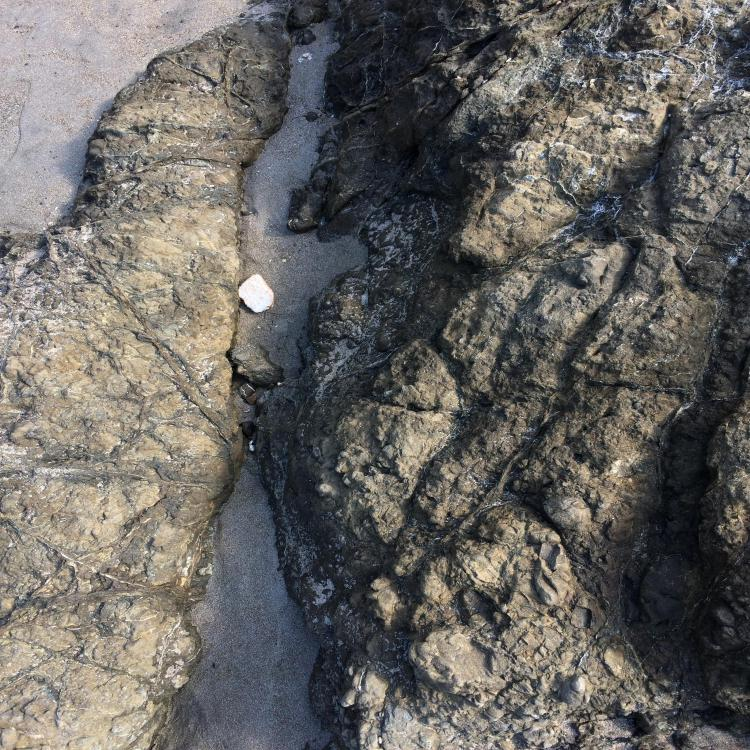Styrofoam piece: (239, 274, 274, 312)
